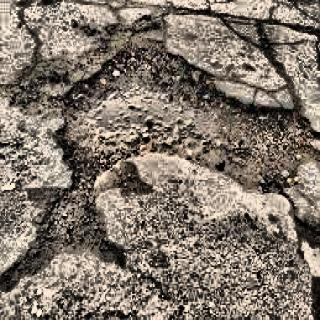alligator-crack: (127, 0, 320, 94)
pothole: (52, 34, 315, 198), (8, 193, 121, 293)
